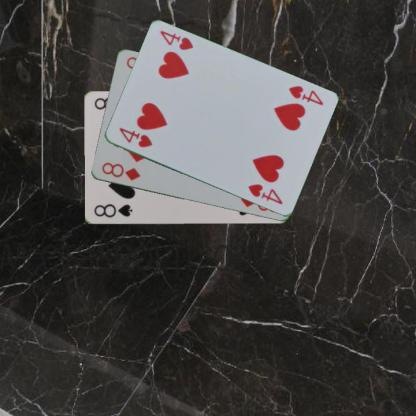4h: (116, 125, 154, 149), (286, 83, 324, 107)
8d: (98, 160, 141, 182)
8s: (92, 201, 134, 219)
